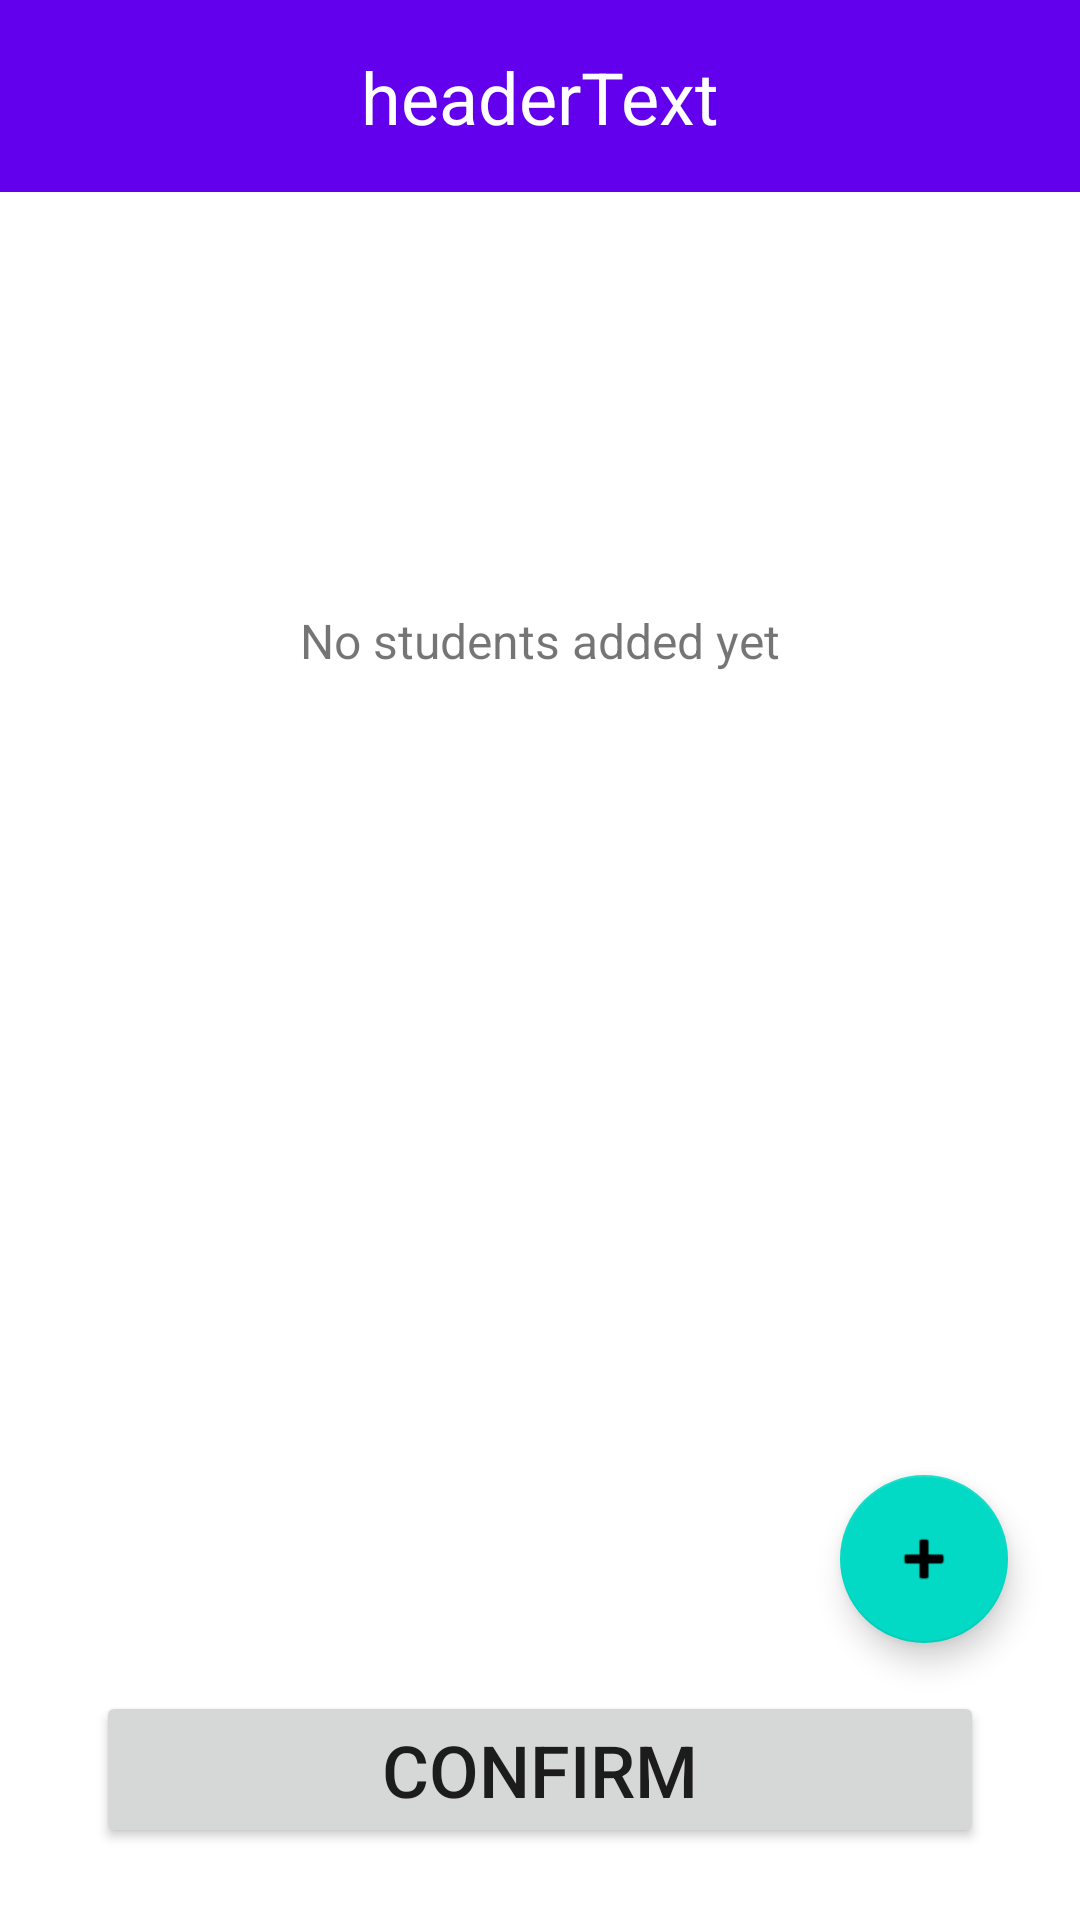

Icon click points for this 1080x1920 phone screenshot, format [x,y]:
add: [924,1559]
